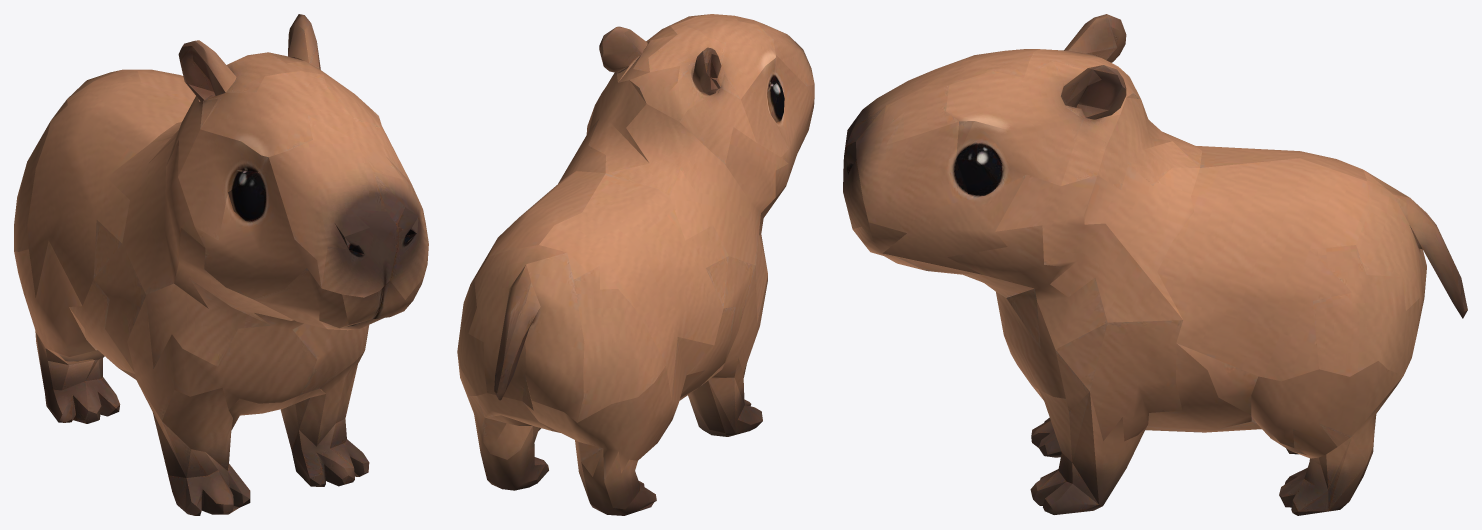
File: toy-capybara.prefab.glb
The picture shows the model from 3 angles, left to right: view 1: azimuth 30°, elevation 25°; view 2: azimuth 150°, elevation 25°; view 3: azimuth 270°, elevation 25°; orthographic projection. The views are drawn at different scales.
Visible parts, largest first — view 1: Prize_Batch0; view 2: Prize_Batch0; view 3: Prize_Batch0.
Part boxes in pixels (box(x1,y1,x2,y2)): Prize_Batch0: box(14, 14, 428, 515); Prize_Batch0: box(457, 14, 814, 515); Prize_Batch0: box(843, 14, 1467, 515).
Size of the model in its own units: 0.0132 by 0.0246 by 0.032.
1 material, 1 textured.
